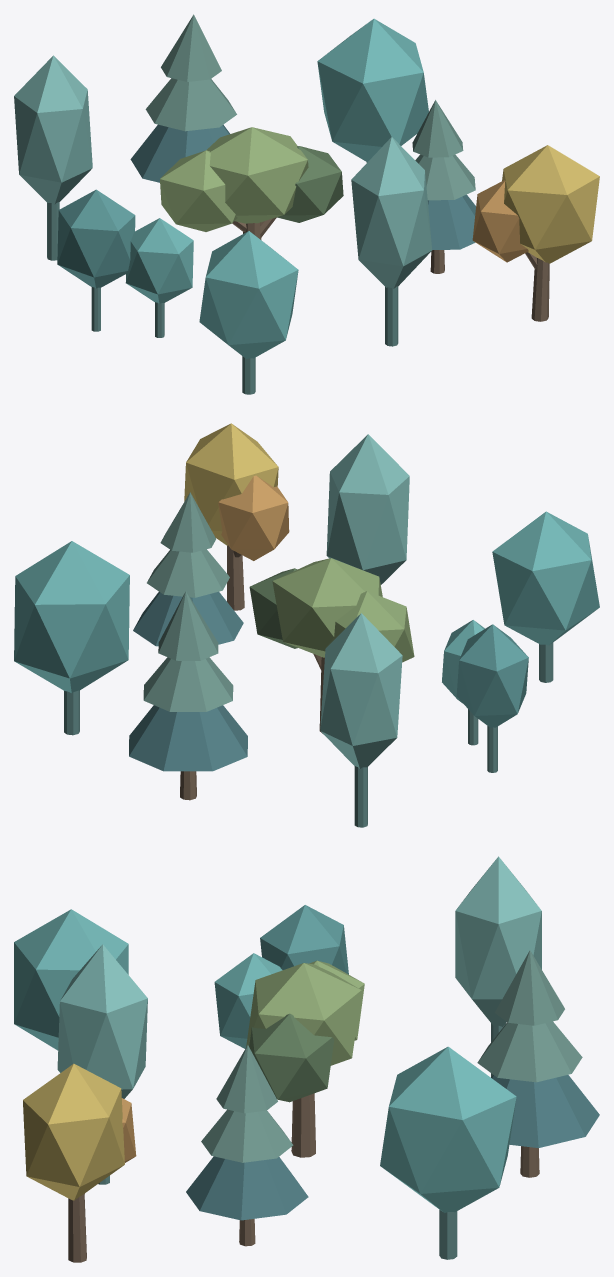
File: campus_forest_mixed_v01.glb
3 renders of one model, top to bottom at view 1: azimuth 30°, elevation 25°; view 2: azimuth 150°, elevation 25°; view 3: azimuth 270°, elevation 25°, orthographic. The views are drawn at different scales.
Parts seen in each view (by area): view 1: campus_forest_mixed; view 2: campus_forest_mixed; view 3: campus_forest_mixed.
Boxes of the visible parts, x1,y1,x2,y2 form: campus_forest_mixed: (14,14,599,394); campus_forest_mixed: (14,423,599,827); campus_forest_mixed: (14,856,599,1262).
Size of the model in its own units: 8.96 by 4.17 by 9.33.
1 material, 1 textured.
